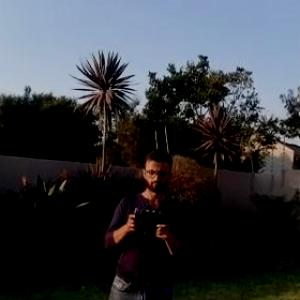follow: (95, 137, 194, 299)
